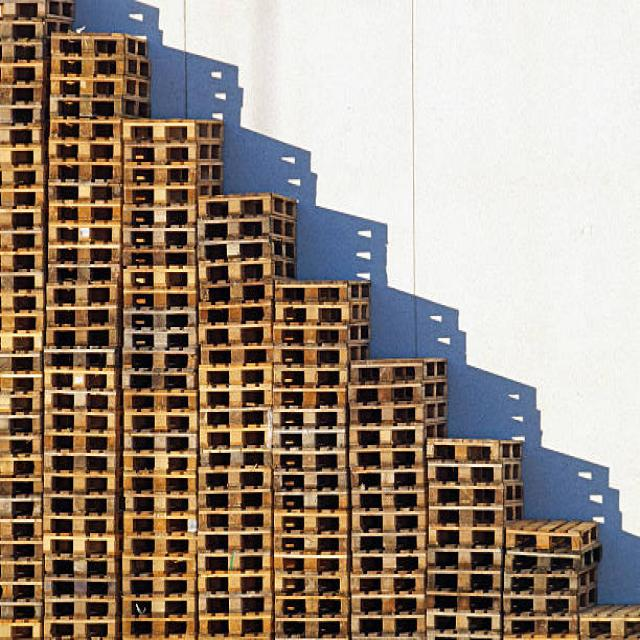Wooden-Pallets: (122, 113, 226, 149), (193, 252, 299, 286), (44, 217, 122, 253), (423, 433, 525, 460), (49, 30, 150, 57), (269, 362, 349, 396), (121, 160, 225, 186), (507, 524, 600, 550), (194, 197, 299, 220), (43, 299, 119, 330), (44, 136, 120, 166), (503, 569, 599, 592), (40, 385, 118, 413), (41, 574, 119, 602), (116, 306, 196, 332), (120, 370, 200, 396), (120, 513, 197, 539), (501, 609, 578, 635), (424, 610, 501, 635), (198, 468, 271, 494), (42, 516, 115, 542), (347, 444, 426, 468), (197, 572, 275, 596), (430, 549, 502, 575), (351, 529, 428, 553), (200, 324, 272, 349), (120, 224, 198, 246), (198, 409, 274, 430)
